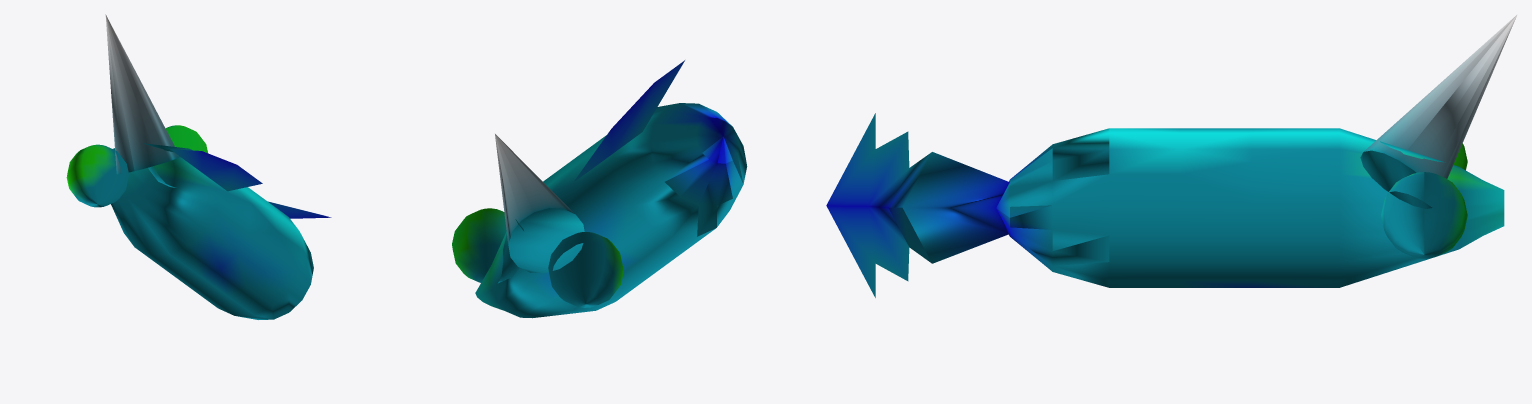
File: unidor.glb
The picture shows the model from 3 angles, left to right: view 1: azimuth 30°, elevation 25°; view 2: azimuth 150°, elevation 25°; view 3: azimuth 270°, elevation 25°; orthographic projection. The views are drawn at different scales.
Visible parts, largest first — view 1: Unidor; view 2: Unidor; view 3: Unidor.
Boxes of the visible parts, left/top/right/bottom form: Unidor: left=66, top=14, right=331, bottom=319; Unidor: left=452, top=60, right=747, bottom=318; Unidor: left=826, top=14, right=1517, bottom=297.
Size of the model in its own units: 0.9835 by 0.7511 by 1.63.
